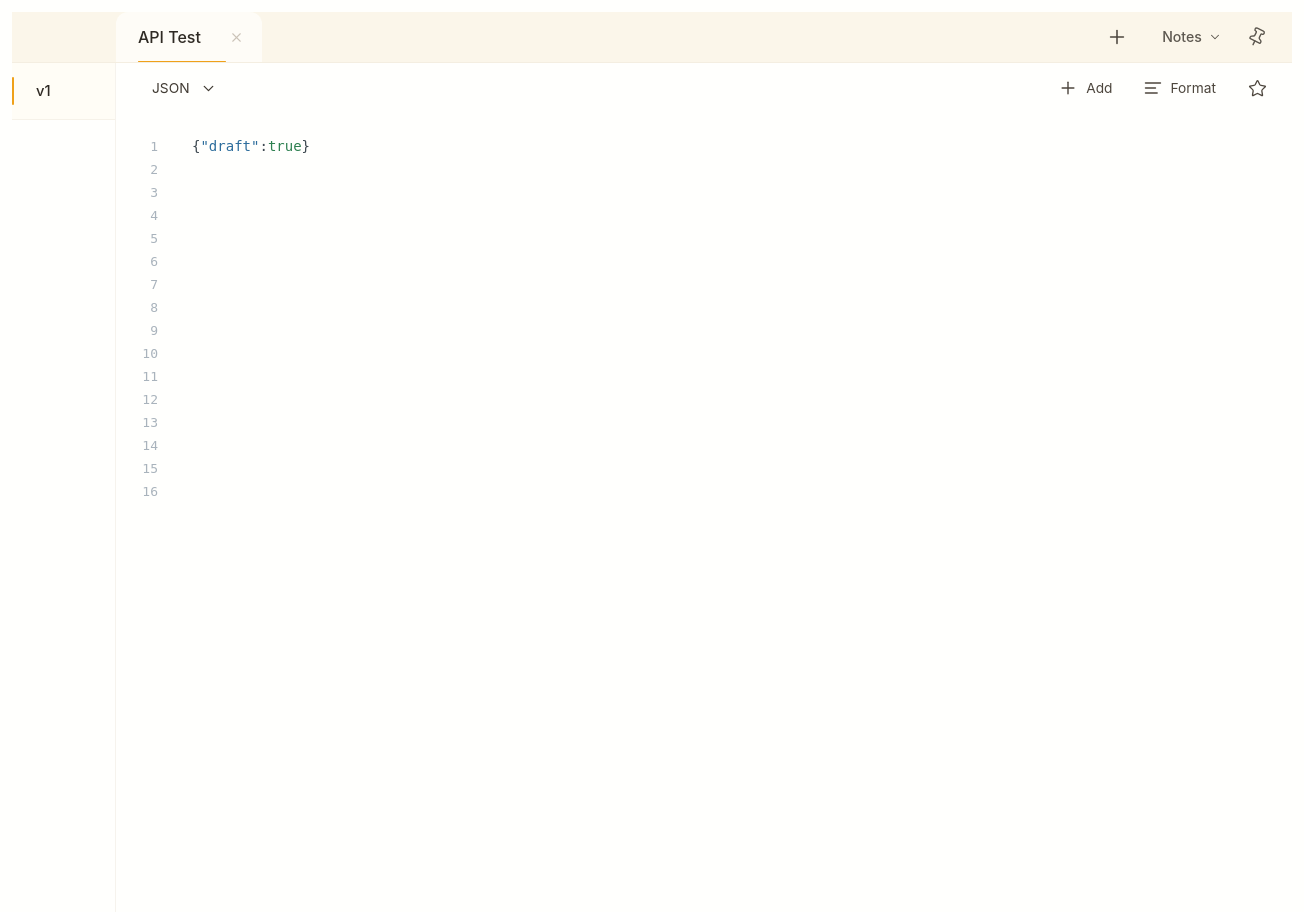
App formatting › formats JSON from the toolbar and confirms the action
The width and height of the screenshot is (1304, 912).
Step 1. Click the button "Format" → [1179, 88], box [1134, 69, 1224, 107]
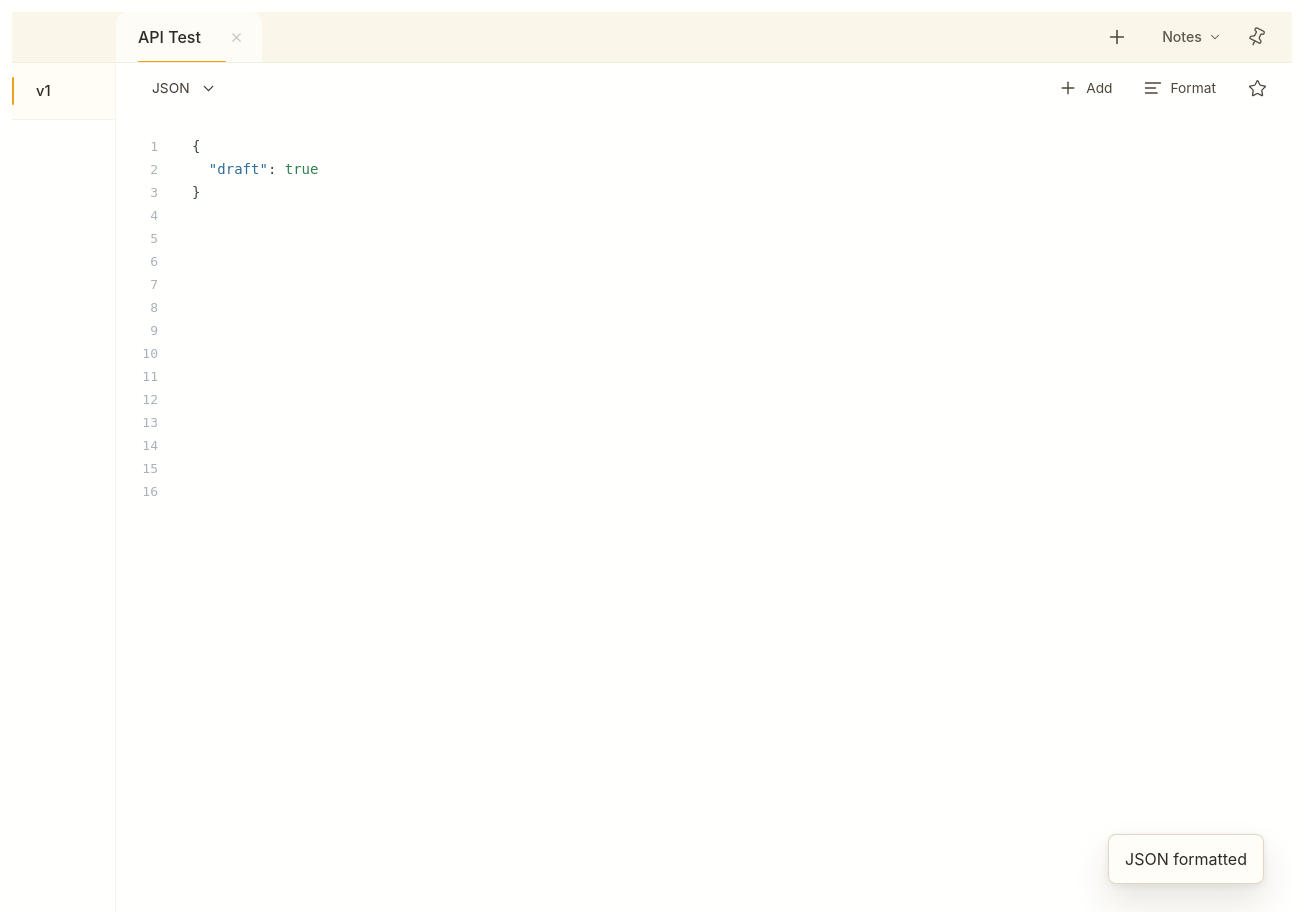
Expected: the message reads "JSON formatted", [1125, 849, 1247, 869]
